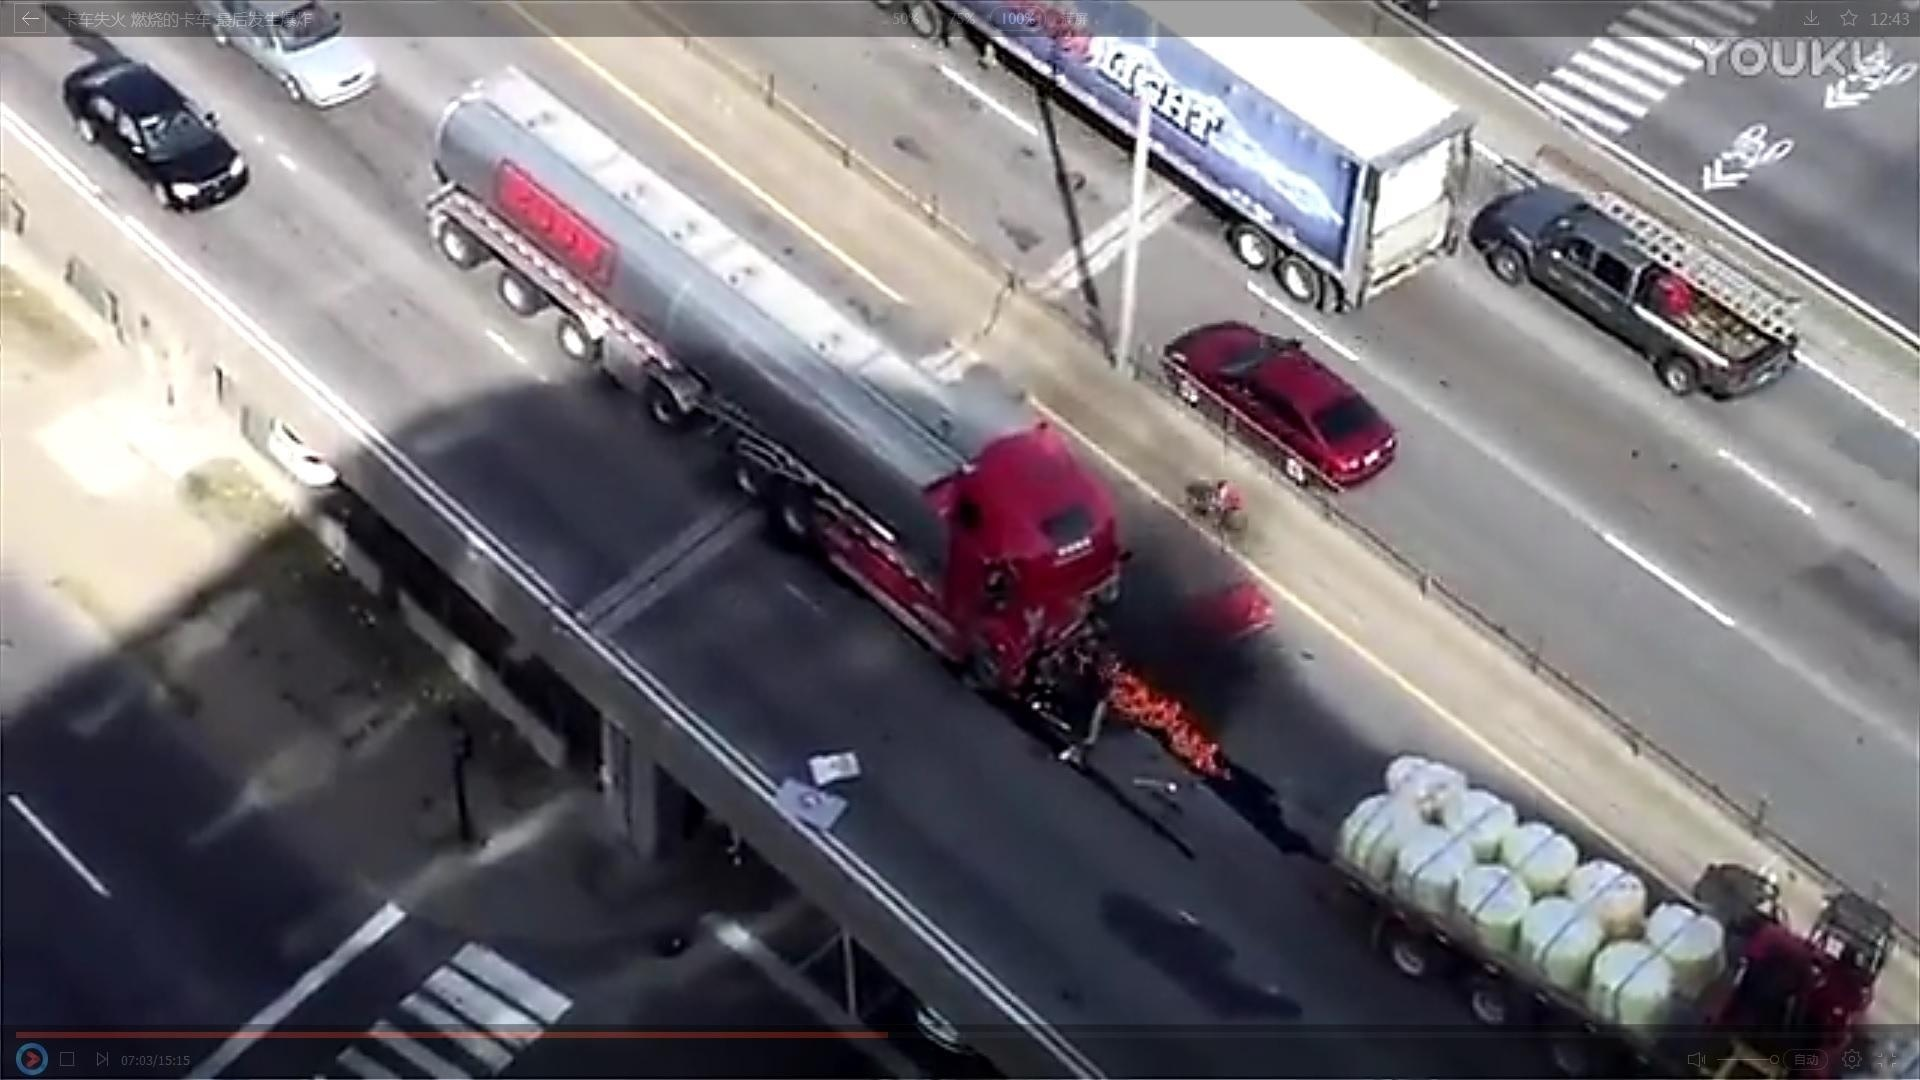fire: (1106, 663, 1221, 775)
